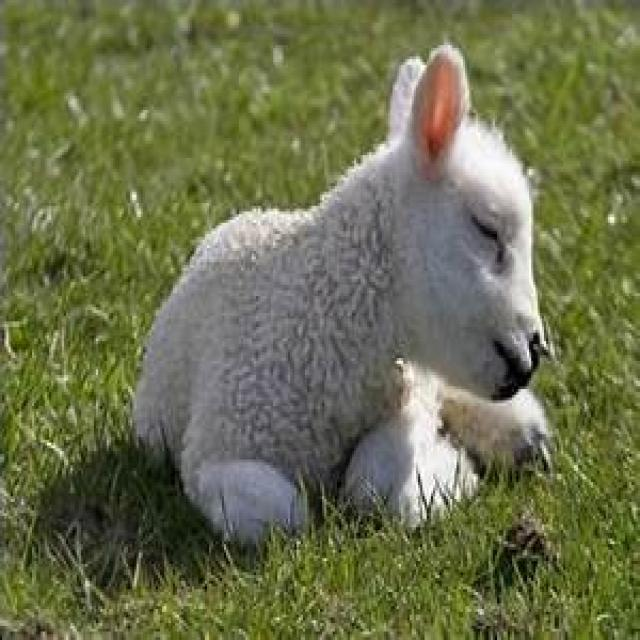sheep: (131, 42, 551, 542)
